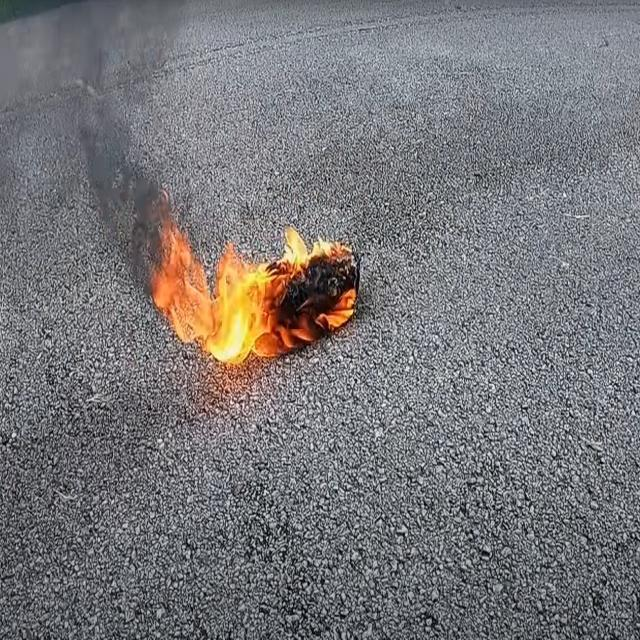Fire: (148, 210, 364, 369)
Smoke: (57, 0, 175, 277)
